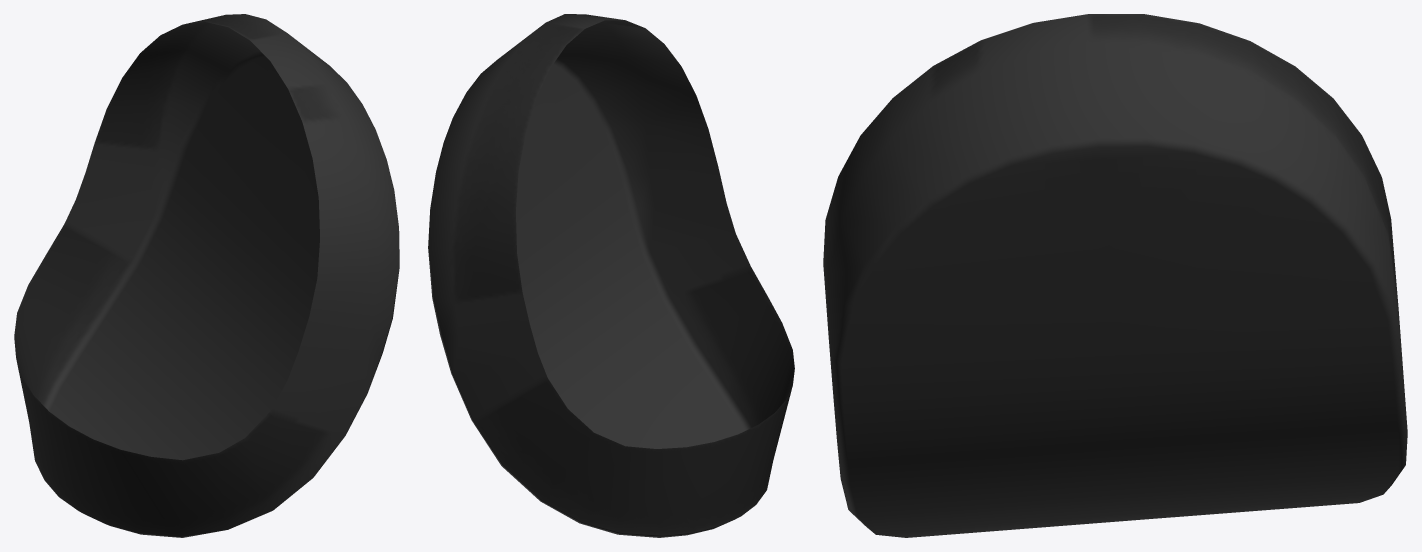
The model's file is GRASP.obj.
3 renders of one model, left to right at view 1: azimuth 30°, elevation 25°; view 2: azimuth 150°, elevation 25°; view 3: azimuth 270°, elevation 25°, orthographic. The views are drawn at different scales.
Size of the model in its own units: 0.0115 by 0.0176 by 0.0154.
Materials: 1 (1 with a texture image).
